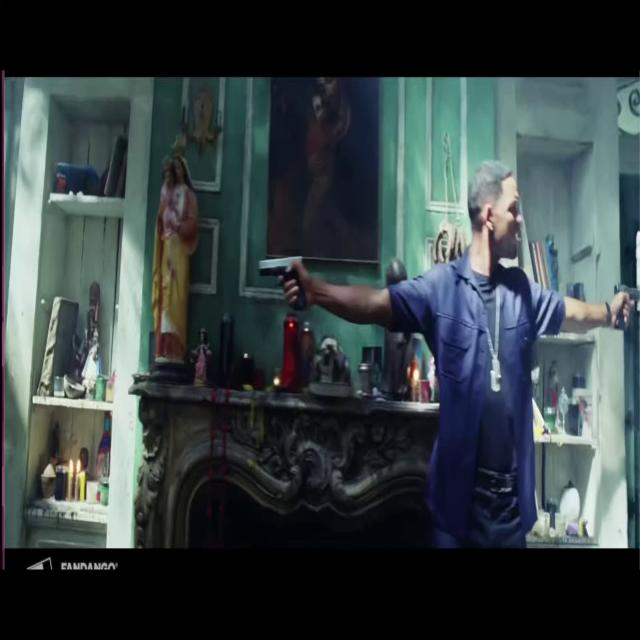weapons: (251, 240, 313, 322)
